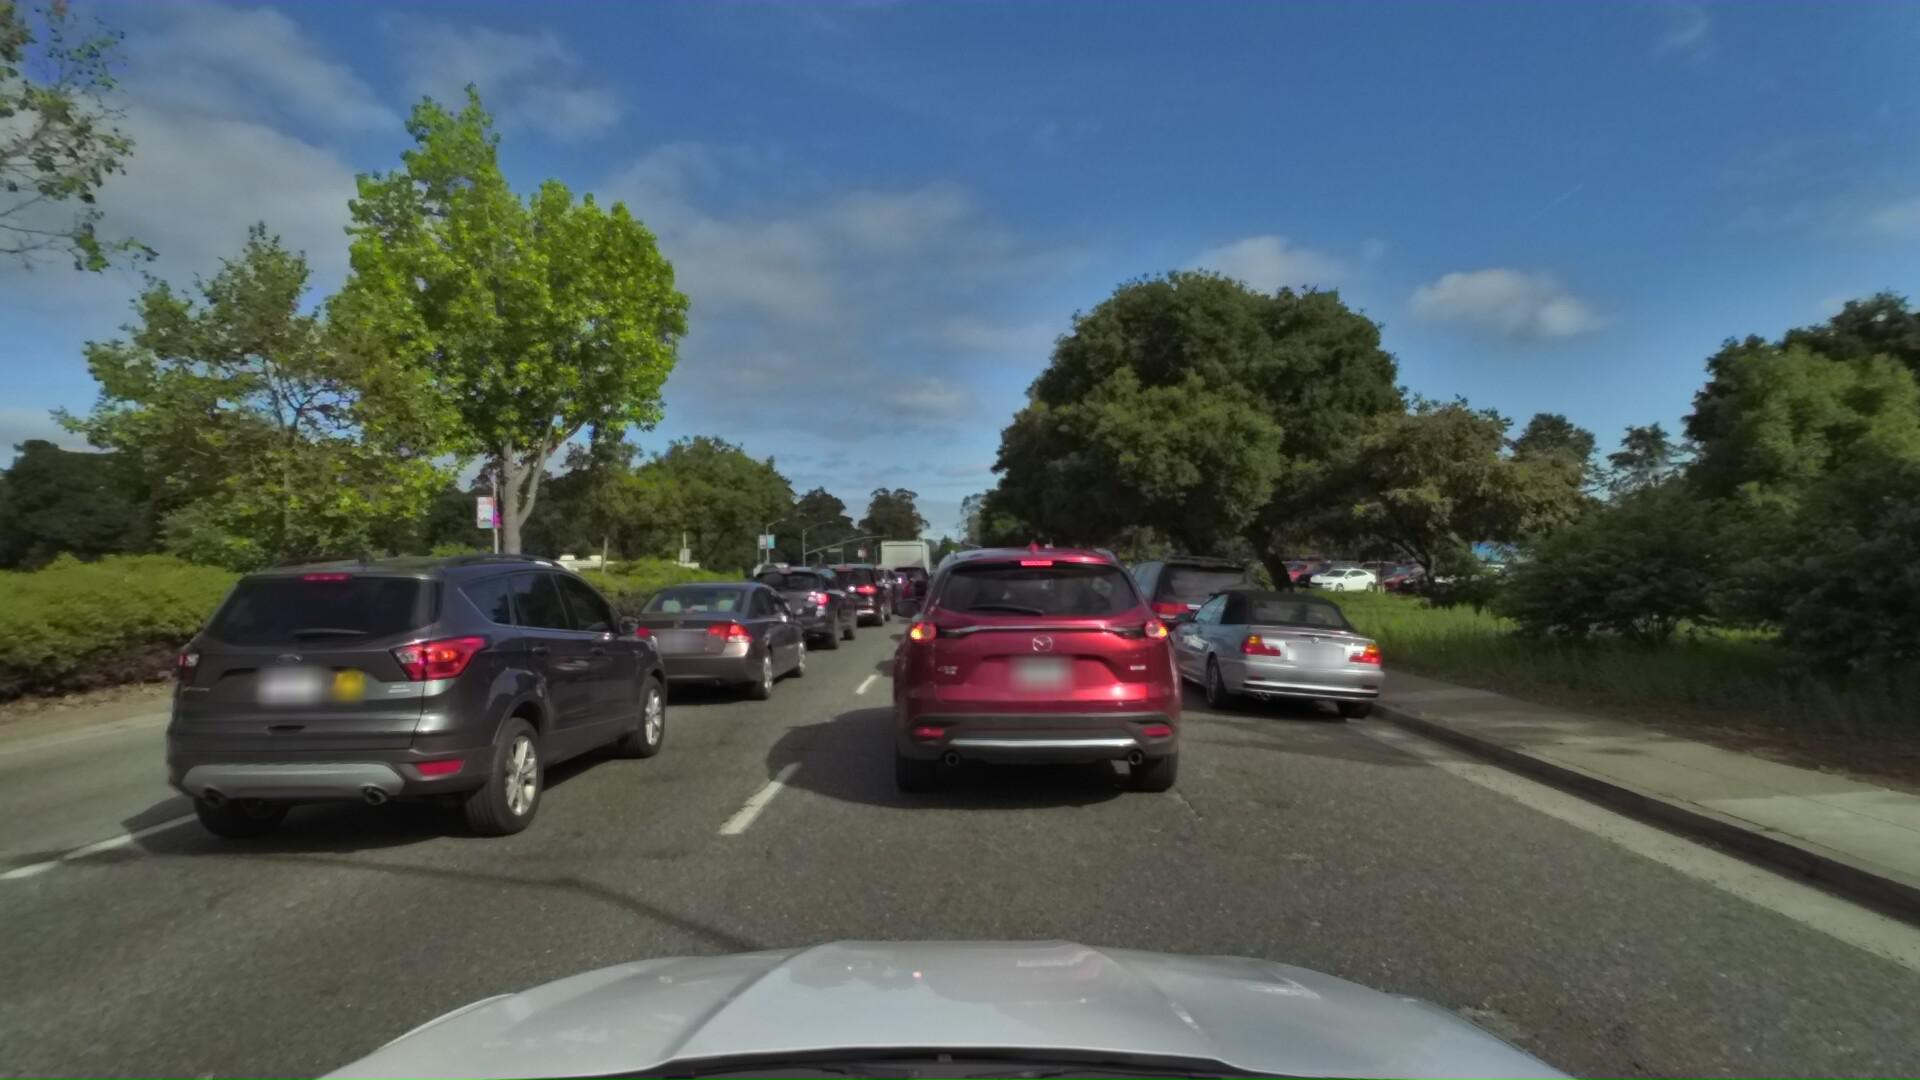car: (92, 533, 687, 895), (853, 522, 1232, 840), (1149, 574, 1399, 735), (583, 571, 818, 724), (1091, 541, 1271, 679), (919, 575, 1068, 691), (719, 562, 862, 662), (916, 574, 1021, 653), (1048, 554, 1146, 630), (802, 560, 897, 633), (923, 560, 1001, 630), (832, 567, 909, 620), (858, 568, 920, 612), (885, 564, 935, 603)
other_vehicle: (522, 549, 622, 609)
truck: (347, 556, 488, 625), (455, 555, 555, 617), (876, 538, 932, 574)
